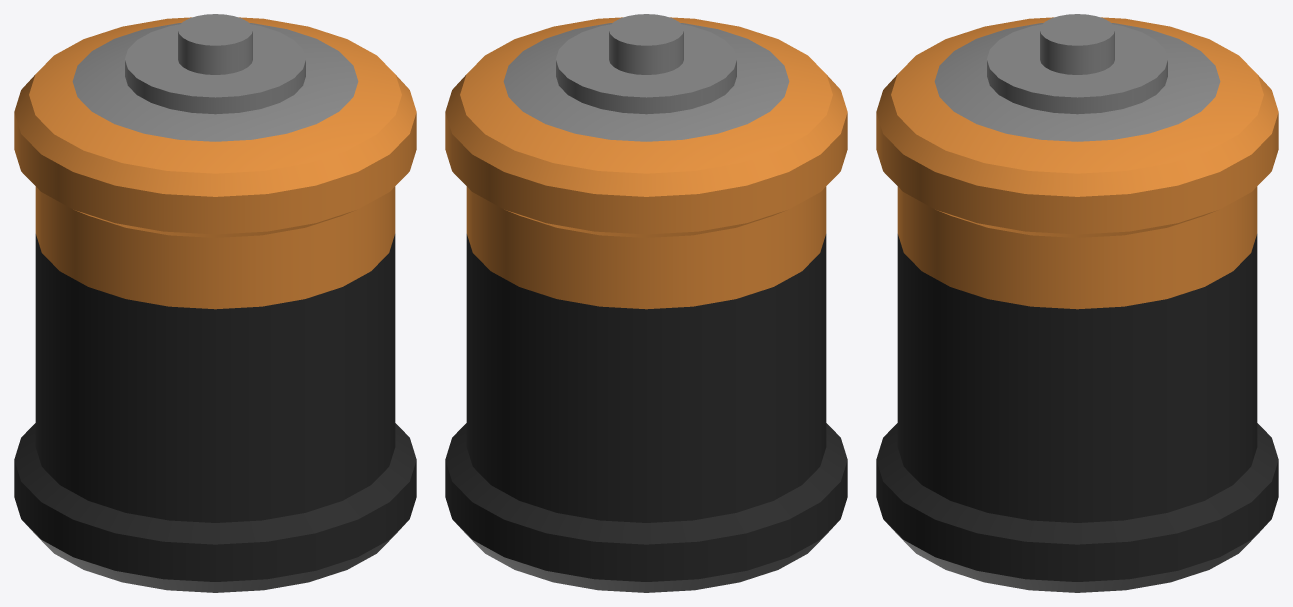
Rendered from pil.fbx.
The picture shows the model from 3 angles, left to right: view 1: azimuth 30°, elevation 25°; view 2: azimuth 150°, elevation 25°; view 3: azimuth 270°, elevation 25°; orthographic projection.
Visible parts, largest first — view 1: Cylinder.002; view 2: Cylinder.002; view 3: Cylinder.002.
Boxes of the visible parts, <box> form: Cylinder.002: <box>14,14,416,592</box>; Cylinder.002: <box>445,14,847,592</box>; Cylinder.002: <box>876,14,1278,592</box>.
Size of the model in its own units: 224 by 224 by 309.
